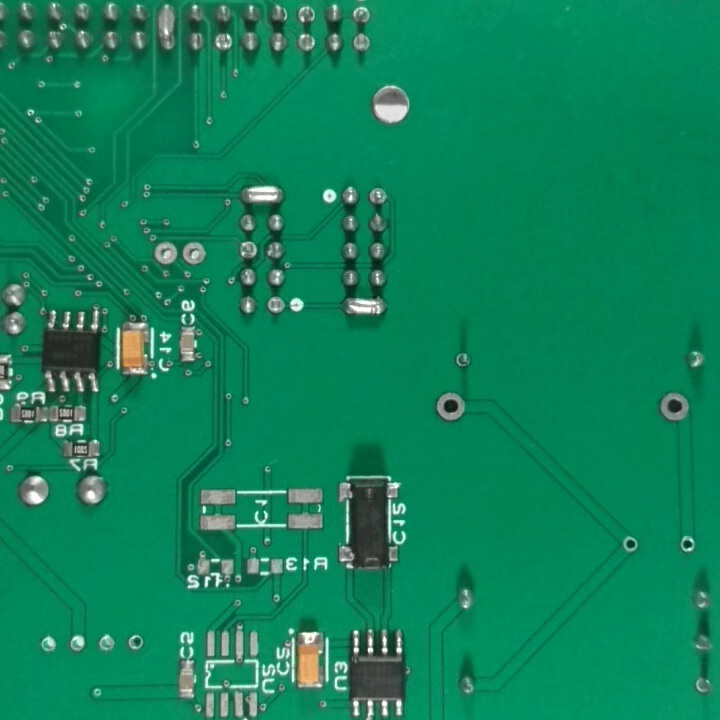F: (430, 387, 470, 424), (654, 388, 693, 424), (180, 240, 210, 271), (154, 240, 180, 268), (691, 672, 715, 702), (236, 240, 261, 265), (452, 348, 474, 375), (619, 533, 642, 558), (367, 186, 390, 209), (212, 31, 236, 53), (95, 632, 119, 654), (67, 631, 89, 655), (37, 632, 58, 656), (350, 6, 373, 27), (267, 295, 287, 319), (127, 628, 144, 656), (297, 5, 318, 26), (679, 532, 698, 555)
P: (153, 1, 180, 55), (237, 184, 290, 211), (338, 295, 393, 321)
